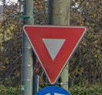cedeaza: (22, 23, 86, 84)
